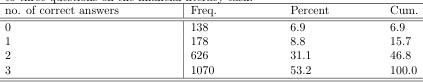table: (3, 3, 417, 75)
table column: (3, 3, 153, 75), (252, 3, 358, 75), (153, 3, 252, 75), (358, 3, 417, 75)
table column header: (3, 3, 417, 18)
table row: (3, 18, 417, 34), (3, 3, 417, 18), (3, 34, 417, 48), (3, 48, 417, 62), (3, 62, 417, 75)
